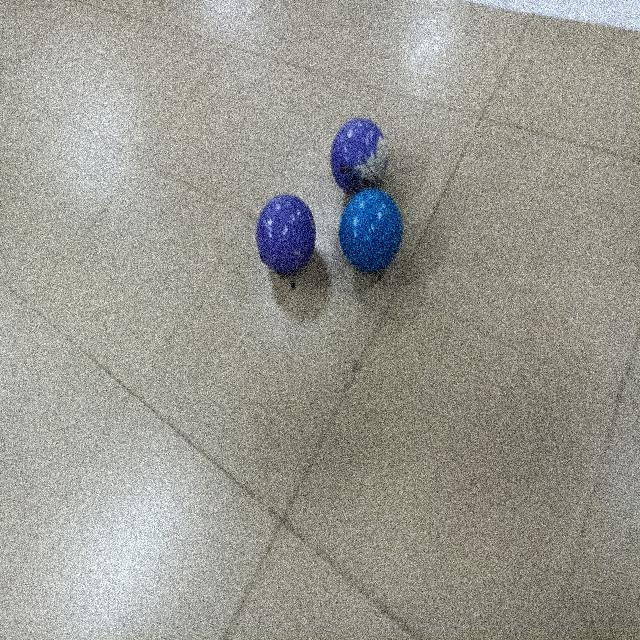blue_ball: (345, 190, 399, 270)
purple_ball: (257, 196, 312, 271), (334, 123, 386, 187)
